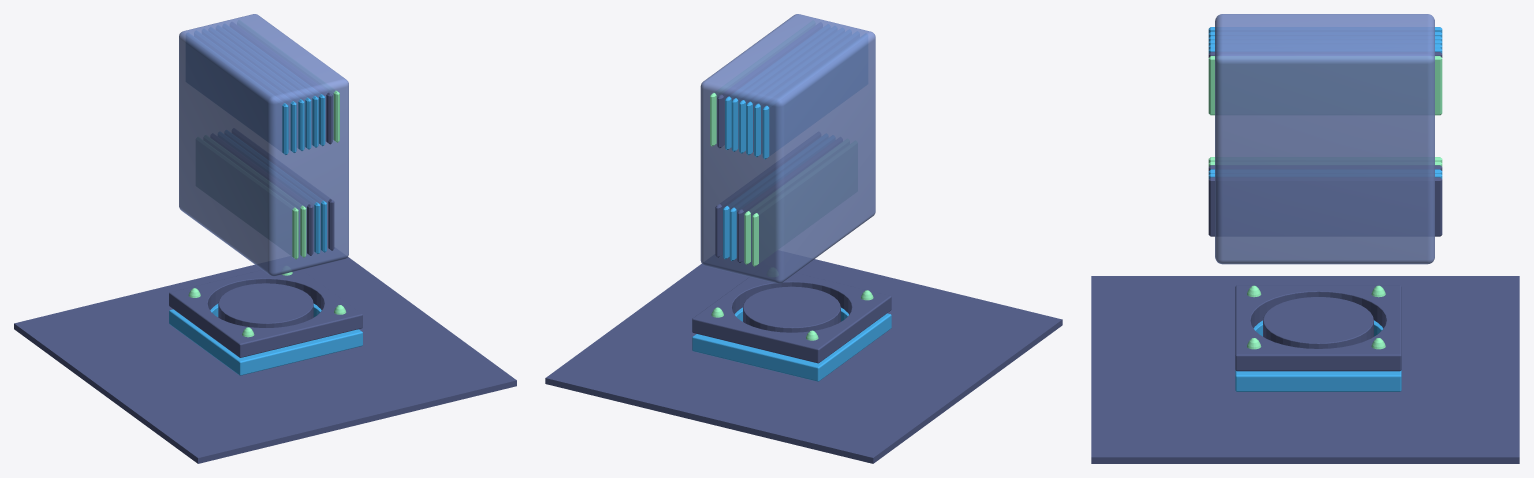
Rendered from small.gltf.
3 renders of one model, left to right at view 1: azimuth 30°, elevation 25°; view 2: azimuth 150°, elevation 25°; view 3: azimuth 270°, elevation 25°, orthographic. The views are drawn at different scales.
Parts seen in each view (by area): view 1: 立方体_32, 外机箱, 布尔.1_1, 布尔_1; view 2: 立方体_32, 外机箱, 布尔.1_1, 布尔_1; view 3: 立方体_32, 外机箱, 布尔.1_1, 布尔_1, 立方体.1_12, 立方体.15_12, 球体.3_1.
Boxes of the visible parts, x1,y1,x2,y2 form: 立方体_32: [14, 257, 516, 463]; 外机箱: [179, 14, 348, 276]; 布尔.1_1: [169, 270, 362, 357]; 布尔_1: [169, 303, 362, 375]; 立方体_32: [545, 259, 1062, 463]; 外机箱: [700, 14, 875, 283]; 布尔.1_1: [692, 273, 891, 363]; 布尔_1: [692, 307, 891, 381]; 立方体_32: [1091, 276, 1519, 463]; 外机箱: [1215, 14, 1434, 264]; 布尔.1_1: [1235, 285, 1401, 371]; 布尔_1: [1235, 320, 1401, 391]; 立方体.1_12: [1208, 56, 1442, 115]; 立方体.15_12: [1208, 177, 1442, 236]; 球体.3_1: [1247, 285, 1385, 349].
Size of the model in its own units: 175 by 155 by 175.
